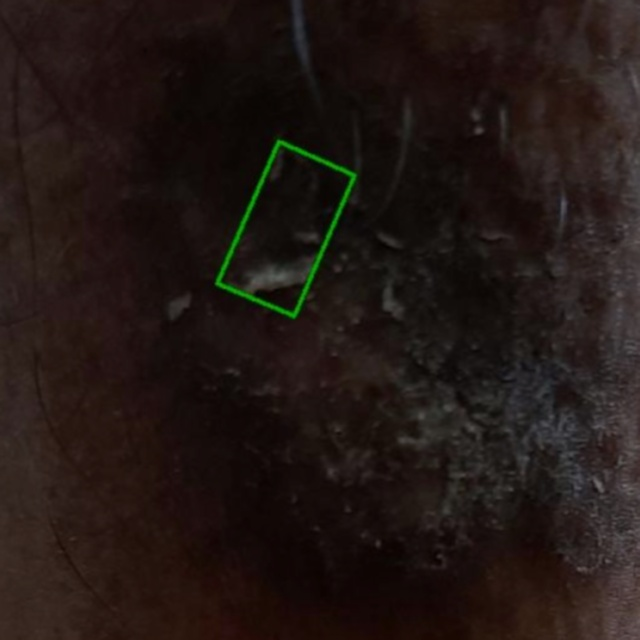Contact Dermatitis: (218, 142, 355, 316)
